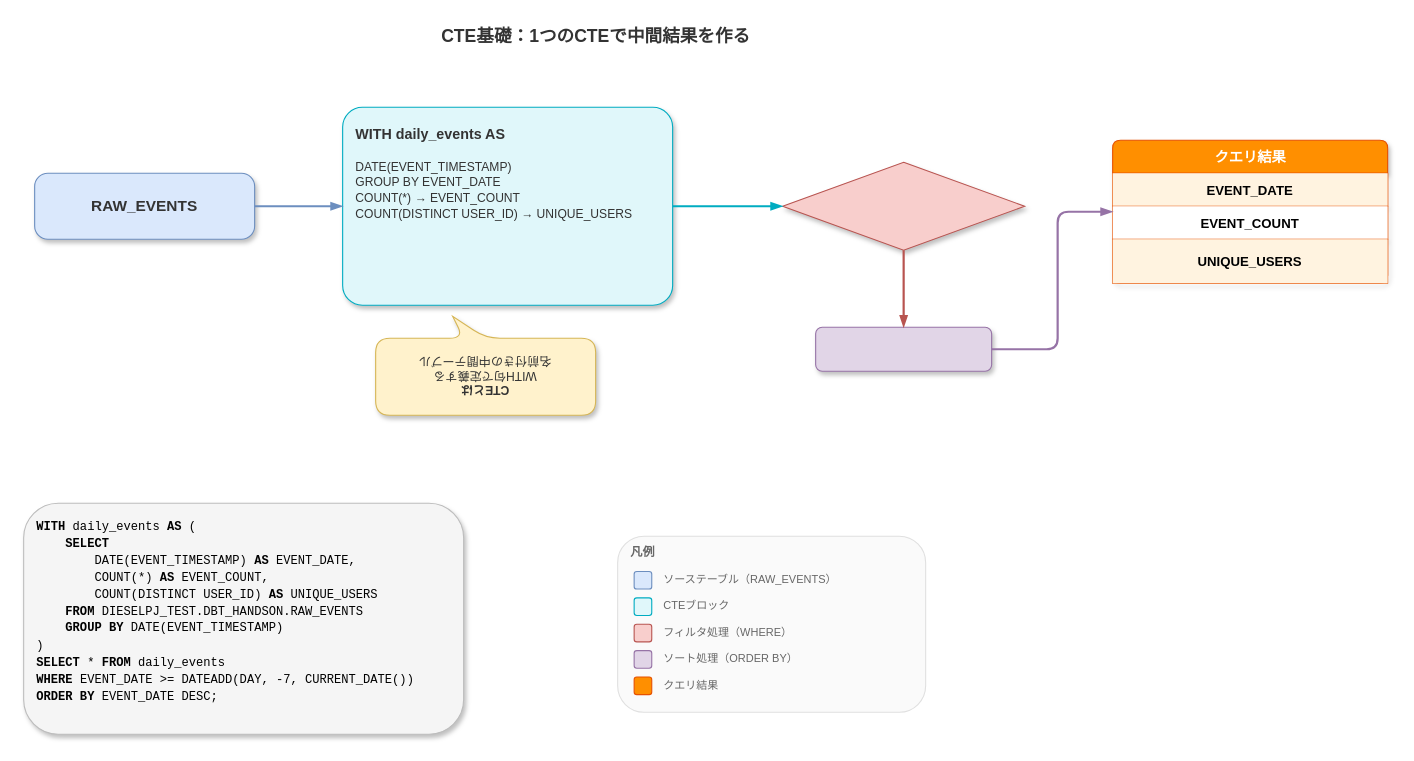
This 1414x761 diagram has some shape labels left out. The centre of each missing label's shape, as x and y in pixels:
"ORDER BY EVENT_DATE DESC" goes at [904,350].
"WHERE EVENT_DATE >= 7日前" goes at [904,207].
